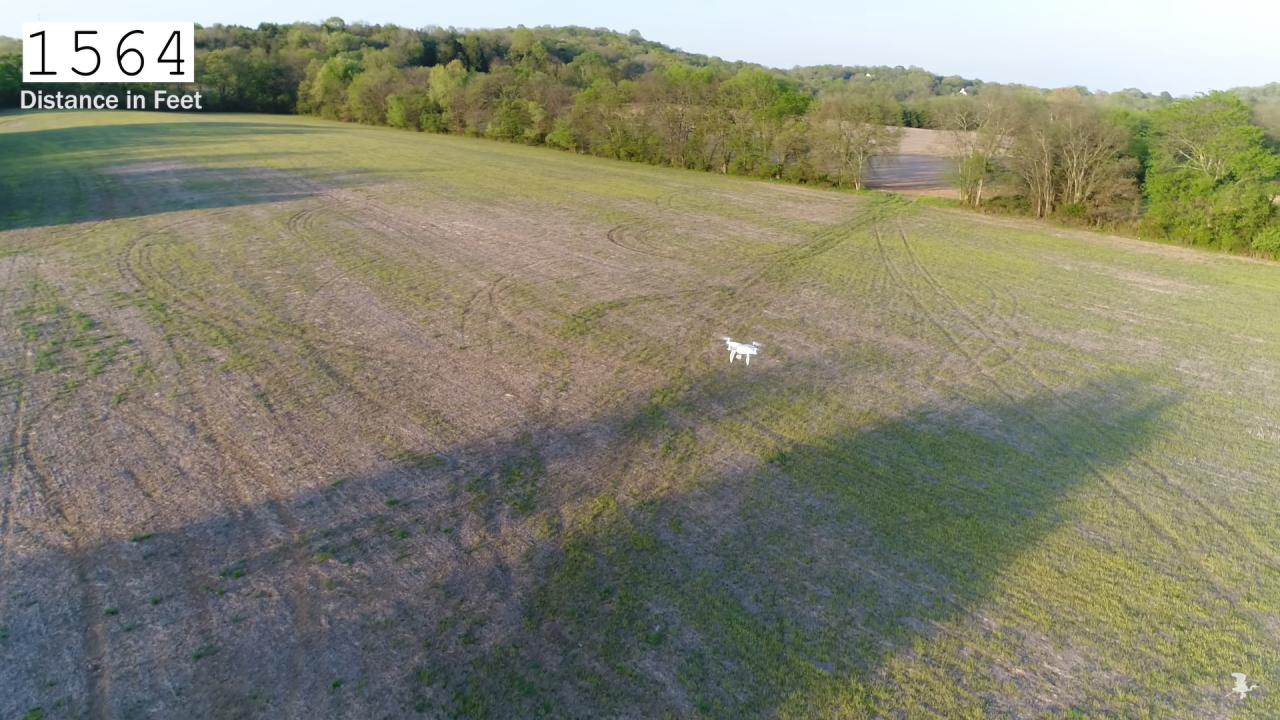Drone: (712, 328, 772, 374)
